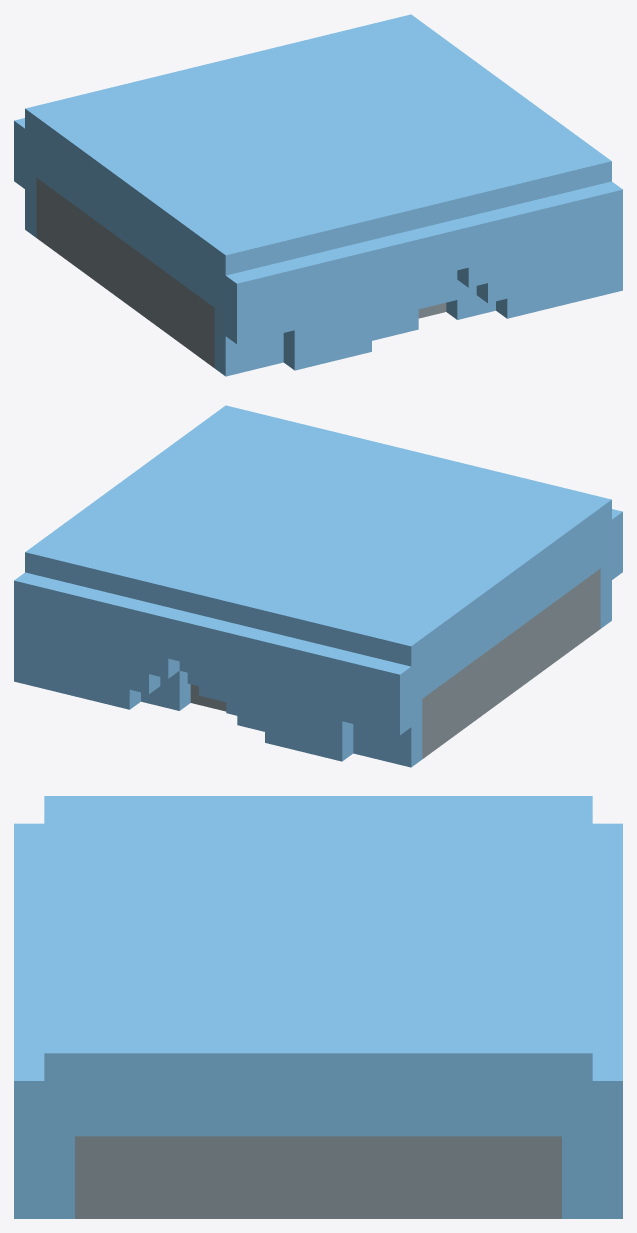
File: Floors-20.obj
3 views of the same model, one above another, from view 1: azimuth 30°, elevation 25°; view 2: azimuth 150°, elevation 25°; view 3: azimuth 270°, elevation 25° (orthographic). The views are drawn at different scales.
Bounding box in the file's own units: 2 × 0.6 × 2.
1 material, 1 textured.
